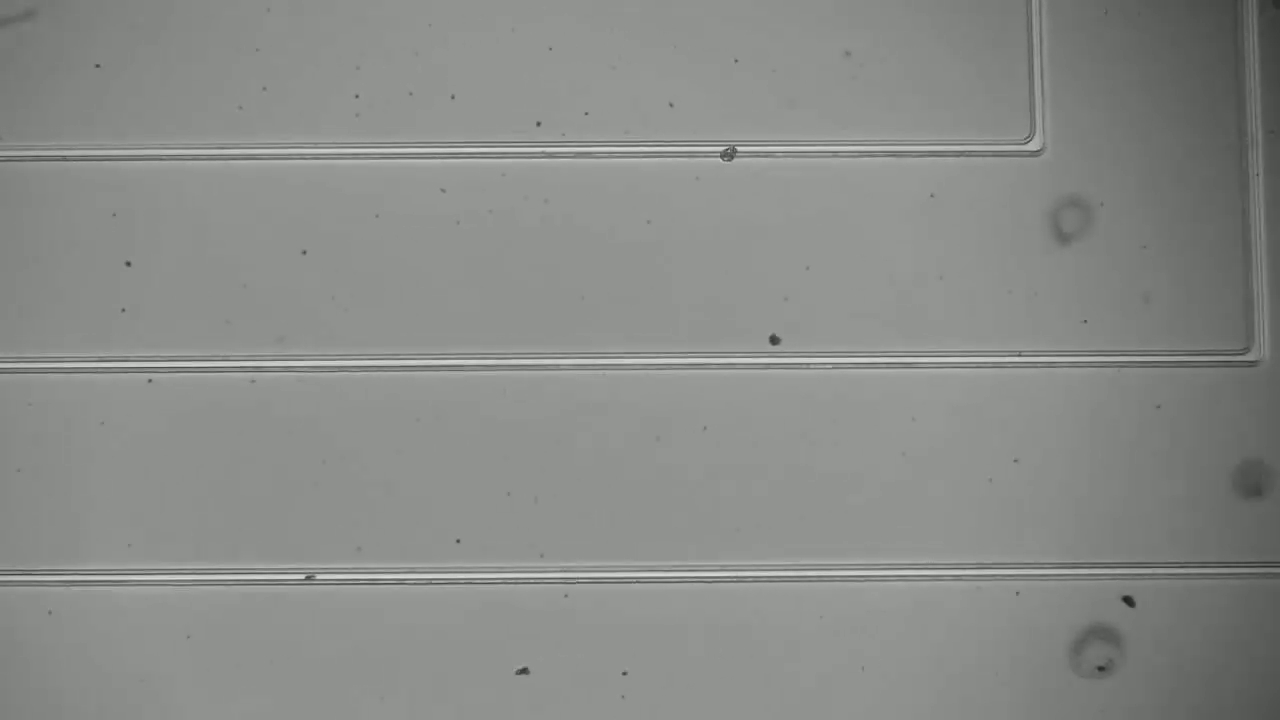stains_enbedded: (717, 136, 747, 167), (294, 563, 323, 591)
